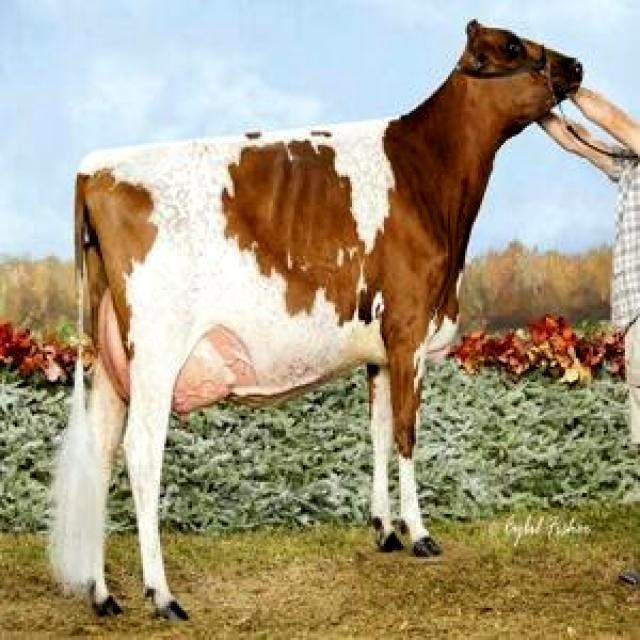COW: (52, 21, 582, 616)
